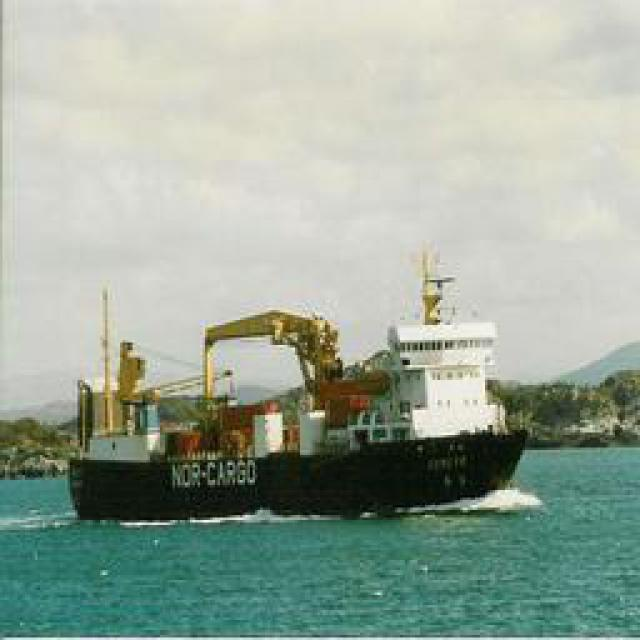Ship: (69, 266, 544, 524)
